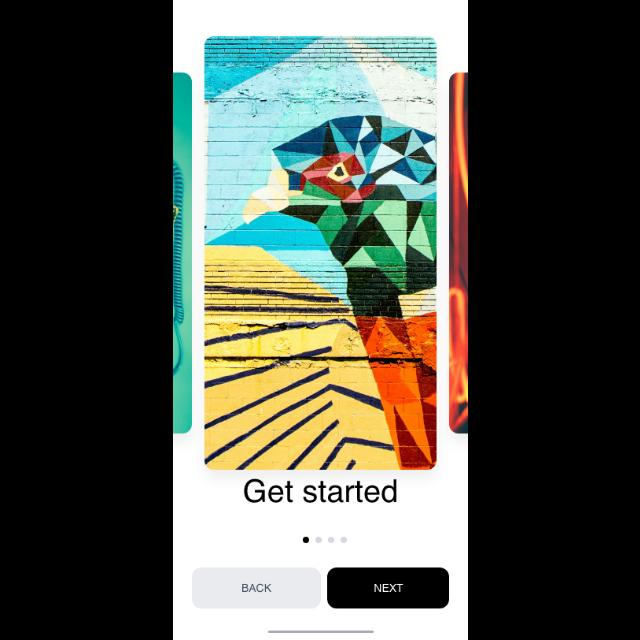image: (204, 36, 436, 470), (449, 72, 467, 434), (173, 74, 191, 434)
pageindicator: (303, 536, 347, 544)
text: (244, 478, 396, 504)
textbutton: (192, 568, 321, 608), (327, 568, 449, 608)
